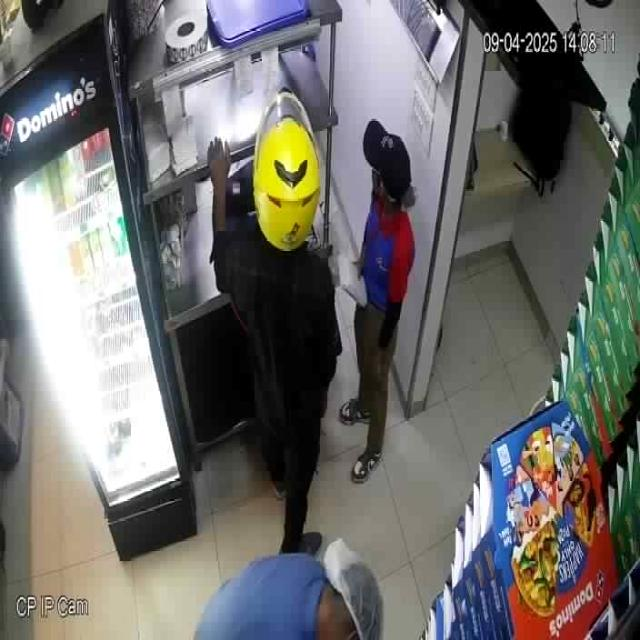helmet: (253, 91, 321, 256)
no_helmet: (311, 540, 385, 639), (362, 119, 418, 210)
